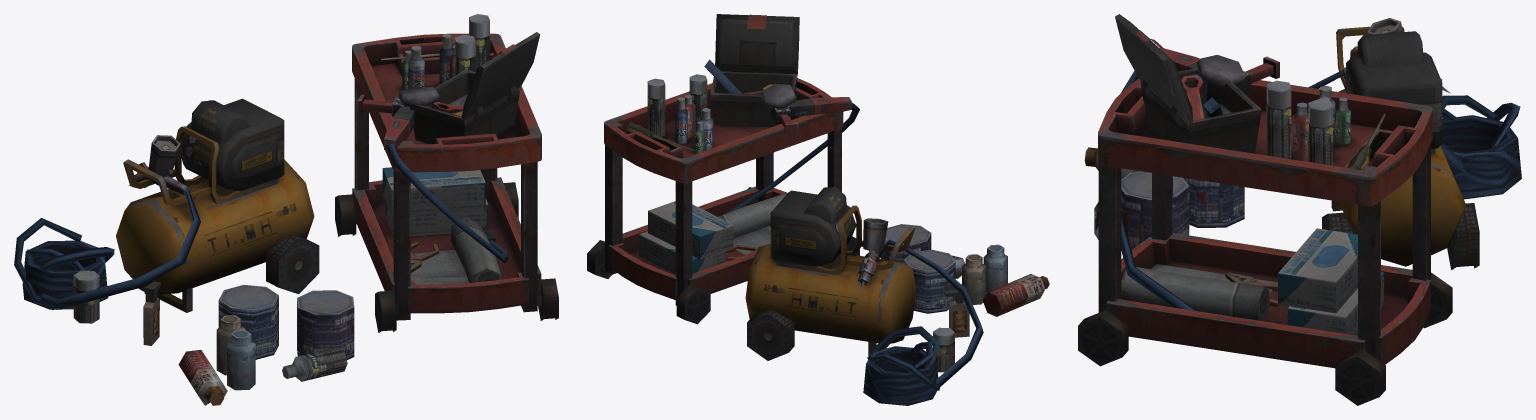
The model's file is PickupPaint.FBX.
The picture shows the model from 3 angles, left to right: view 1: azimuth 30°, elevation 25°; view 2: azimuth 150°, elevation 25°; view 3: azimuth 270°, elevation 25°; orthographic projection. The views are drawn at different scales.
Parts seen in each view (by area): view 1: PickupPaint; view 2: PickupPaint; view 3: PickupPaint.
Boxes of the visible parts, <box> form: PickupPaint: <box>14,14,558,405</box>; PickupPaint: <box>587,14,1049,405</box>; PickupPaint: <box>1078,14,1521,405</box>.
Size of the model in its own units: 2.16 by 1.23 by 1.54.
1 material, 1 textured.
